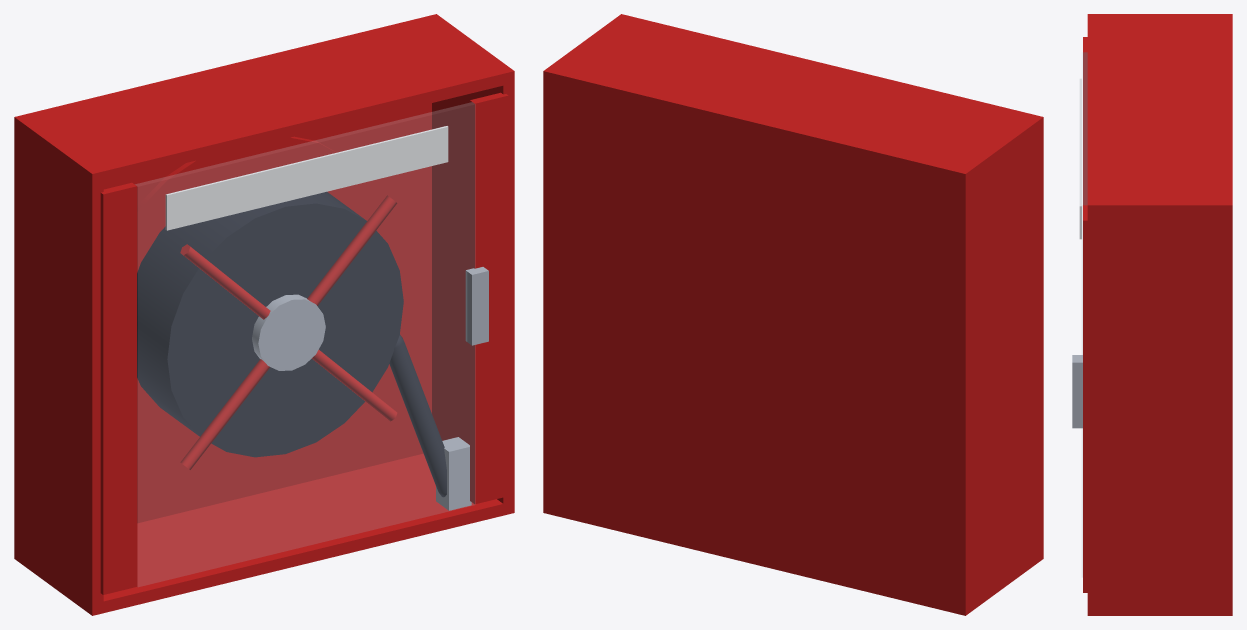
Rendered from ame-009.glb.
3 renders of one model, left to right at view 1: azimuth 30°, elevation 25°; view 2: azimuth 150°, elevation 25°; view 3: azimuth 270°, elevation 25°, orthographic. The views are drawn at different scales.
Visible parts, largest first — view 1: fire_red, glass_clear, plastic_dark, white, steel; view 2: fire_red; view 3: fire_red, glass_clear, steel, white.
Boxes of the visible parts, left/top/right/bottom form: fire_red: left=14, top=14, right=514, bottom=615; glass_clear: left=135, top=102, right=474, bottom=586; plastic_dark: left=137, top=191, right=446, bottom=497; white: left=165, top=126, right=448, bottom=230; steel: left=252, top=267, right=488, bottom=510; fire_red: left=543, top=14, right=1043, bottom=615; fire_red: left=1083, top=14, right=1232, bottom=615; glass_clear: left=1082, top=53, right=1086, bottom=576; steel: left=1072, top=355, right=1082, bottom=428; white: left=1079, top=78, right=1081, bottom=239.
Bounding box in the file's own units: 0.75 × 0.75 × 0.265.
